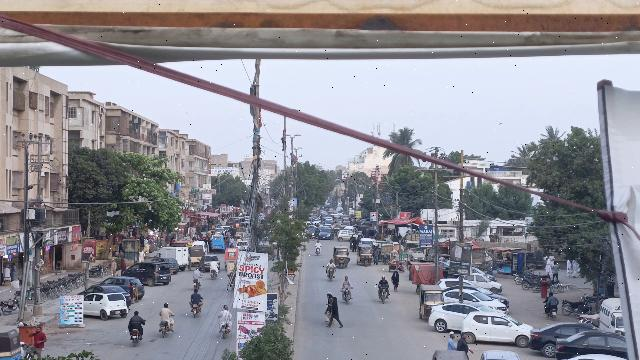Bike: (158, 319, 173, 338), (128, 327, 143, 346), (340, 286, 353, 306), (377, 284, 390, 304), (544, 305, 560, 321), (324, 266, 338, 283), (189, 302, 202, 320), (219, 322, 231, 341), (189, 277, 202, 293), (209, 269, 217, 281)
Car: (461, 309, 532, 347), (526, 319, 588, 358), (553, 330, 626, 359), (428, 302, 487, 333), (83, 291, 128, 322), (126, 260, 173, 287), (104, 273, 145, 299)
Person: (327, 295, 344, 330), (29, 326, 46, 357), (127, 309, 145, 330), (159, 299, 173, 322), (218, 303, 233, 323), (323, 292, 332, 324), (444, 329, 457, 351), (457, 331, 470, 351), (390, 267, 400, 292), (545, 290, 559, 306), (190, 288, 203, 304), (377, 273, 390, 288), (340, 274, 353, 288), (325, 256, 336, 269), (192, 266, 201, 278), (210, 258, 218, 269)
Rickshaw: (416, 283, 445, 321), (331, 244, 350, 270), (355, 244, 373, 267)
Suzuki: (597, 298, 623, 335)
